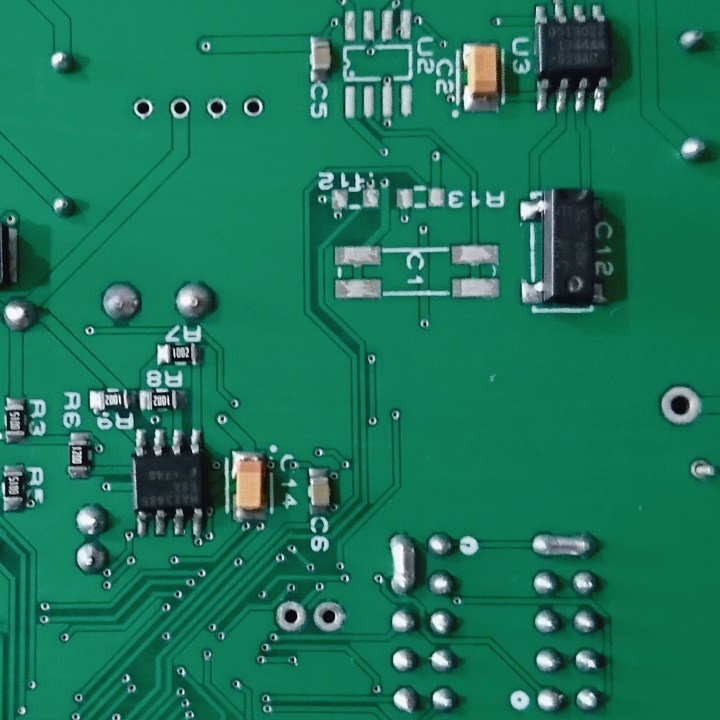F: (656, 382, 707, 428), (310, 597, 347, 635), (273, 599, 307, 634), (685, 453, 718, 483), (166, 95, 192, 122), (130, 93, 153, 123), (204, 92, 228, 120), (239, 95, 265, 118)
P: (527, 528, 603, 563), (384, 528, 419, 597)
